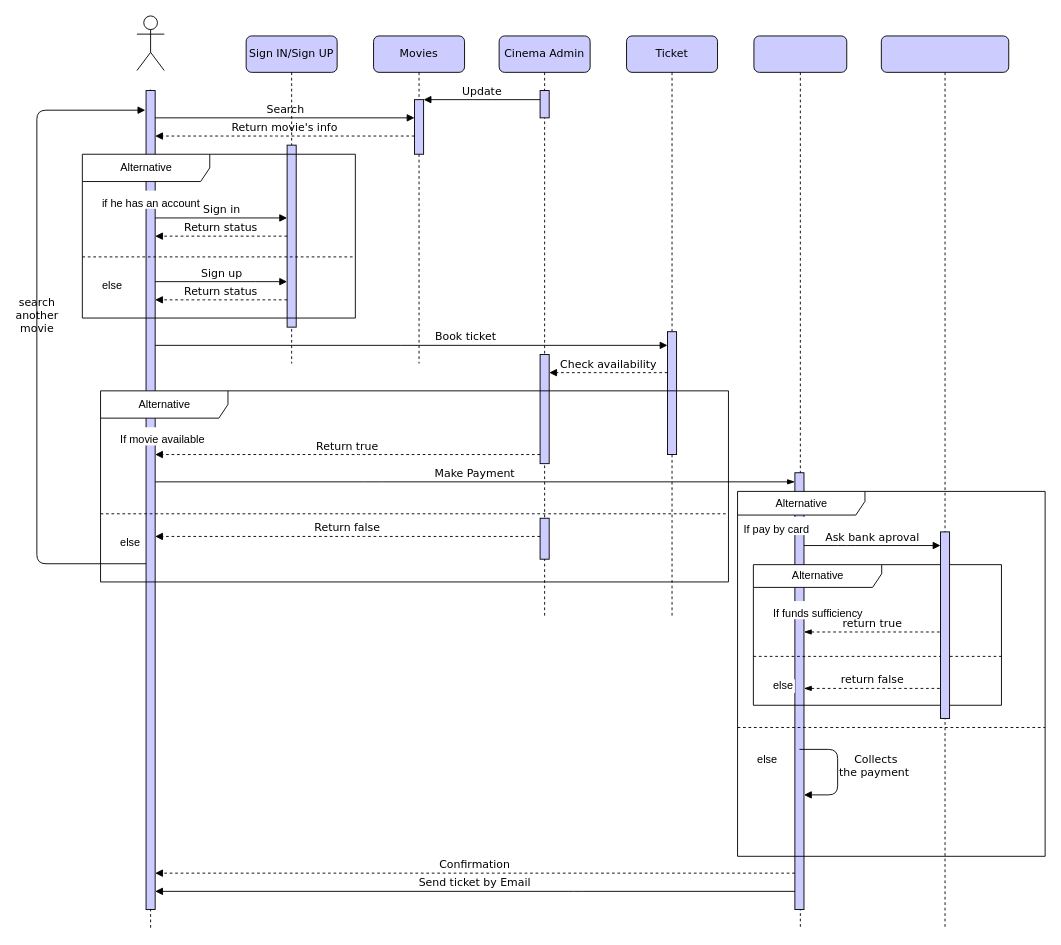
Image size: 1061x945. Some labels were removed from this diagram. The box of each missing label's shape, as (x1, y1, x2, y2) in pixels:
Bank server: (880, 35, 1009, 928)
Customer: (136, 15, 164, 71)
Payment: (753, 35, 847, 928)
